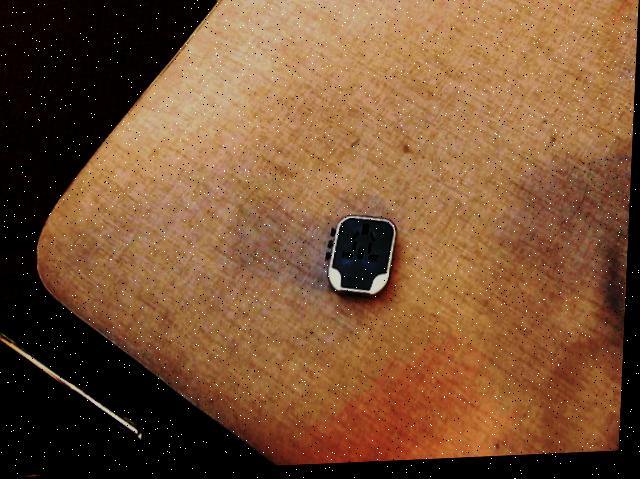adapter: (326, 217, 399, 301)
